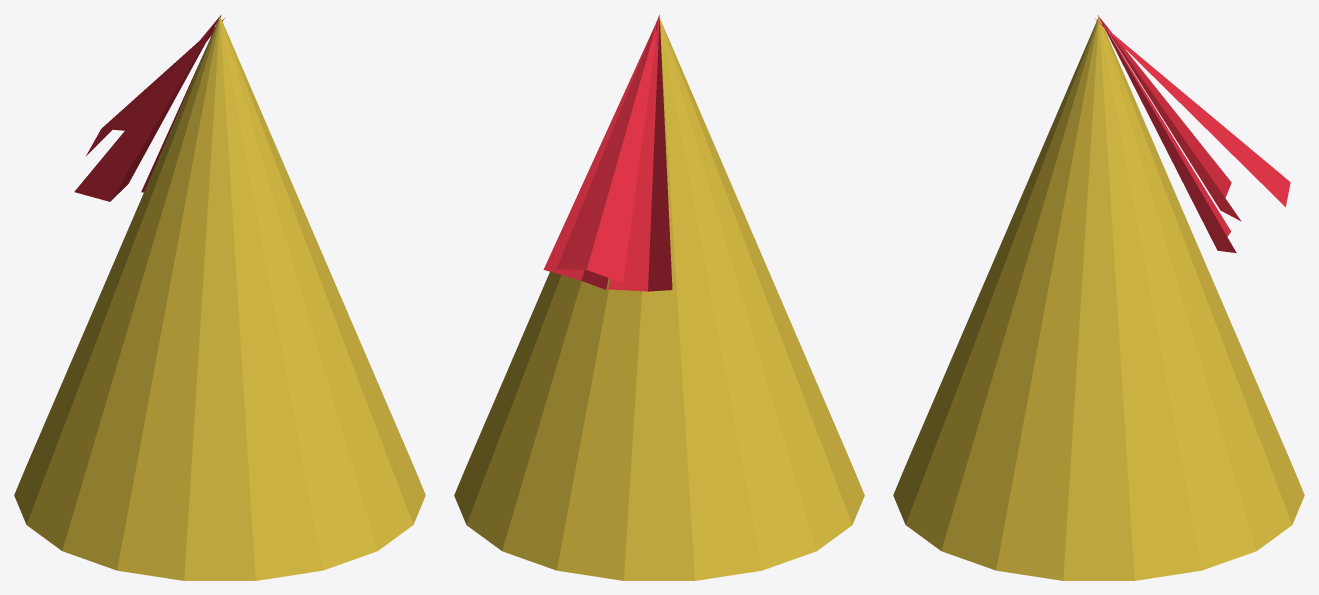
The model's file is partyhat old.fbx.
3 views of the same model, side by side, from view 1: azimuth 30°, elevation 25°; view 2: azimuth 150°, elevation 25°; view 3: azimuth 270°, elevation 25° (orthographic).
Visible parts, largest first — view 1: Circle, Plane.001, Plane.002; view 2: Circle, Plane.002, Plane.001, Plane; view 3: Circle, Plane.001, Plane, Plane.002.
Boxes of the visible parts, <box> form: Circle: <box>14,16,425,580</box>; Plane.001: <box>74,15,220,201</box>; Plane.002: <box>86,17,225,155</box>; Circle: <box>454,17,864,580</box>; Plane.002: <box>556,15,659,282</box>; Plane.001: <box>608,15,672,291</box>; Plane: <box>543,17,658,289</box>; Circle: <box>893,16,1304,580</box>; Plane.001: <box>1098,15,1241,221</box>; Plane: <box>1098,16,1236,253</box>; Plane.002: <box>1094,18,1290,207</box>.
Size of the model in its own units: 197 by 258 by 200.
